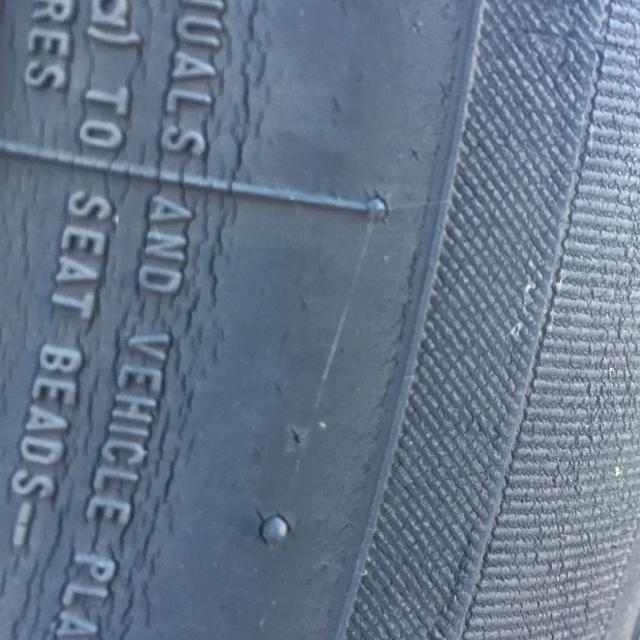Cracks: (0, 0, 293, 639), (494, 64, 639, 640)
